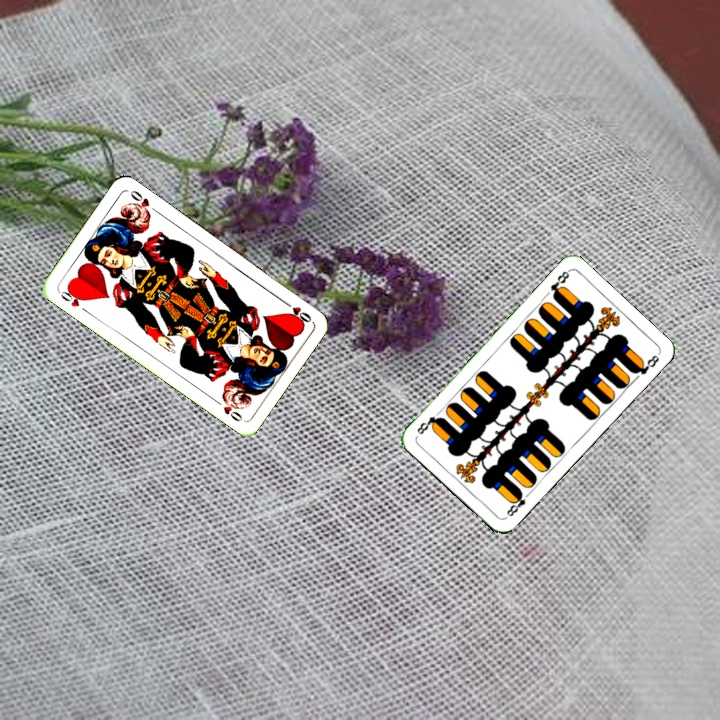E8: (501, 487, 533, 520), (546, 267, 572, 301)
HO: (55, 284, 90, 315), (278, 296, 314, 325)
